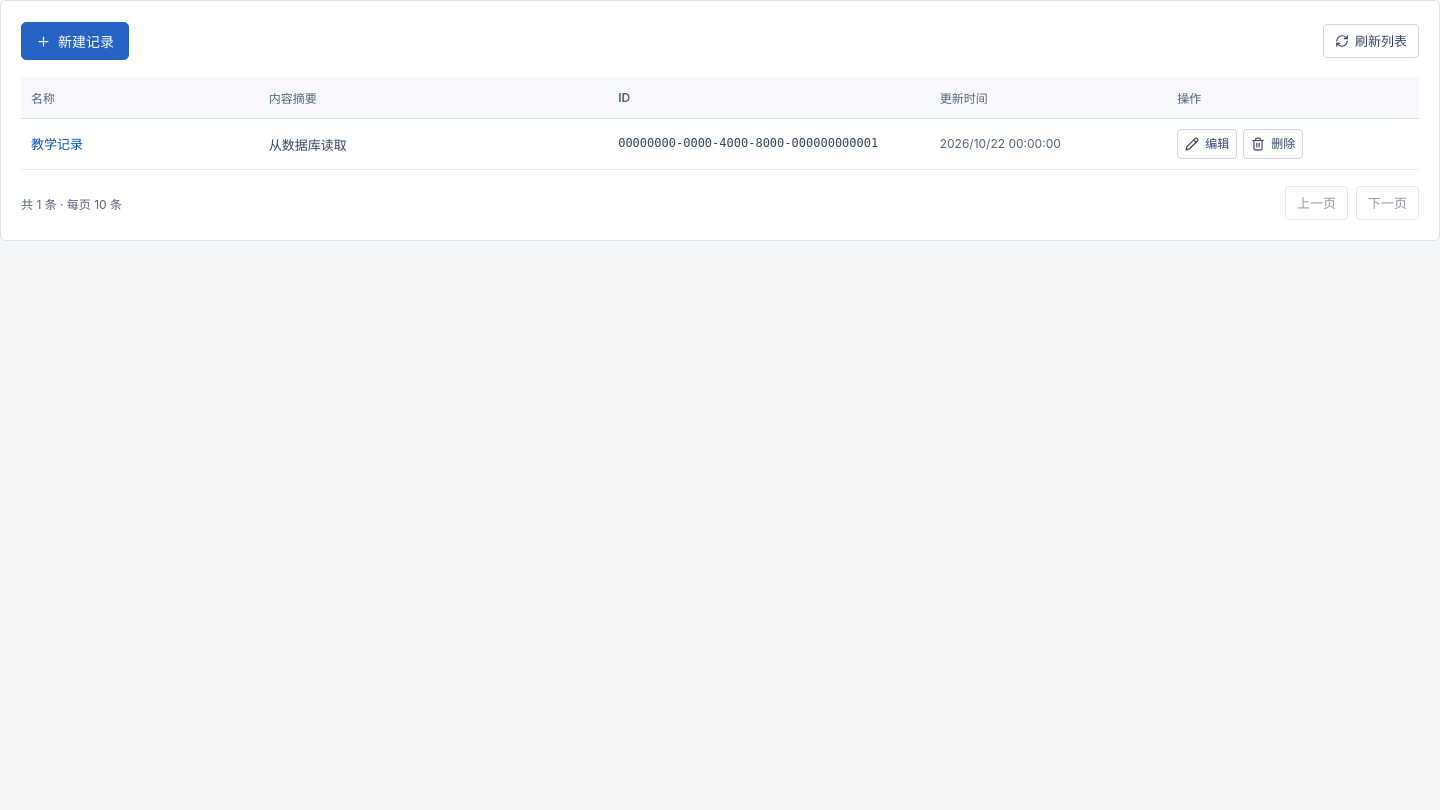
Test case: persisted records and documents › requires deletion confirmation, supports Escape, and sends explicit confirmation only once
The width and height of the screenshot is (1440, 810).
Click the button with aria-label "删除 教学记录": {"x": 1273, "y": 144} [1243,129,1303,159]
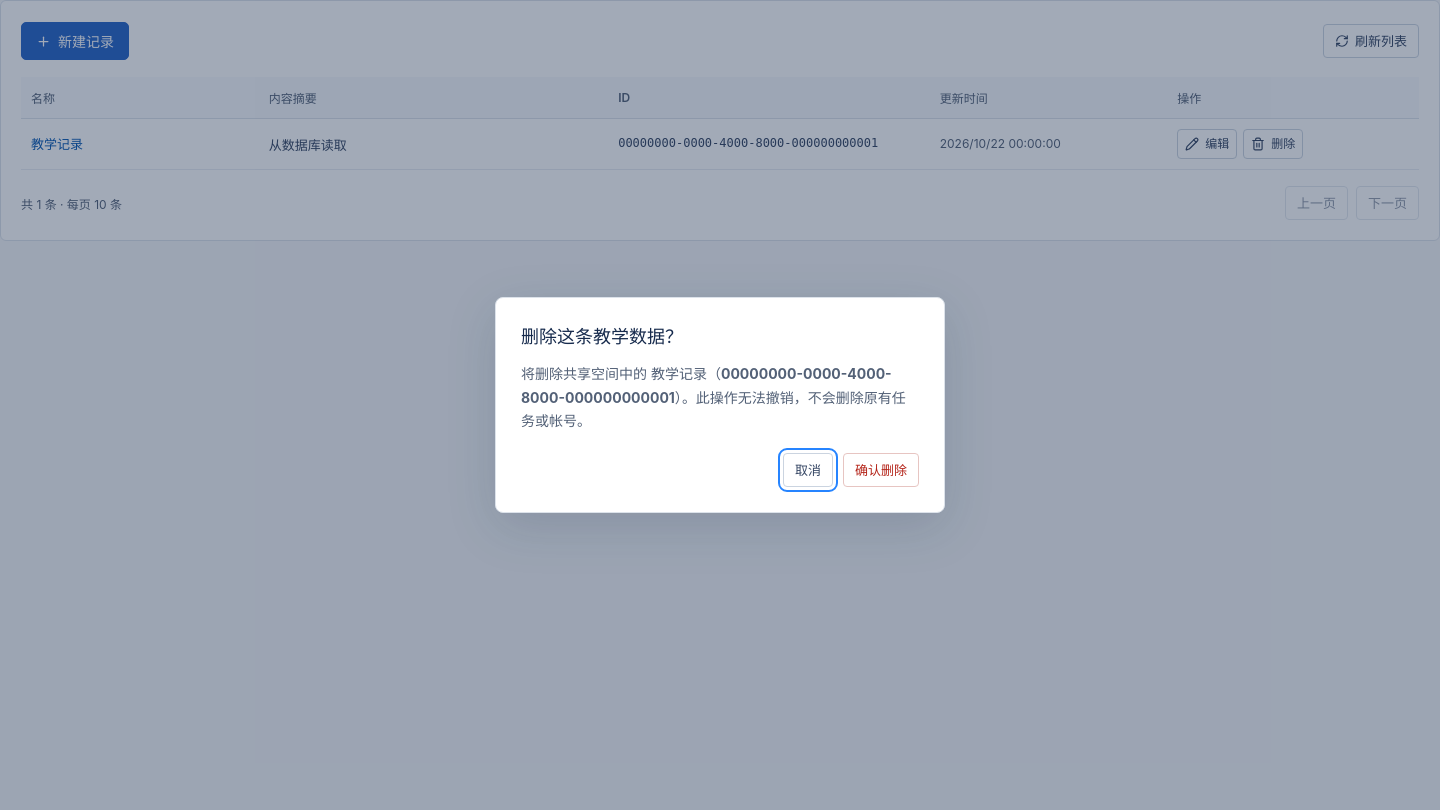
Press Escape in the dialog, box [495,297,945,513]
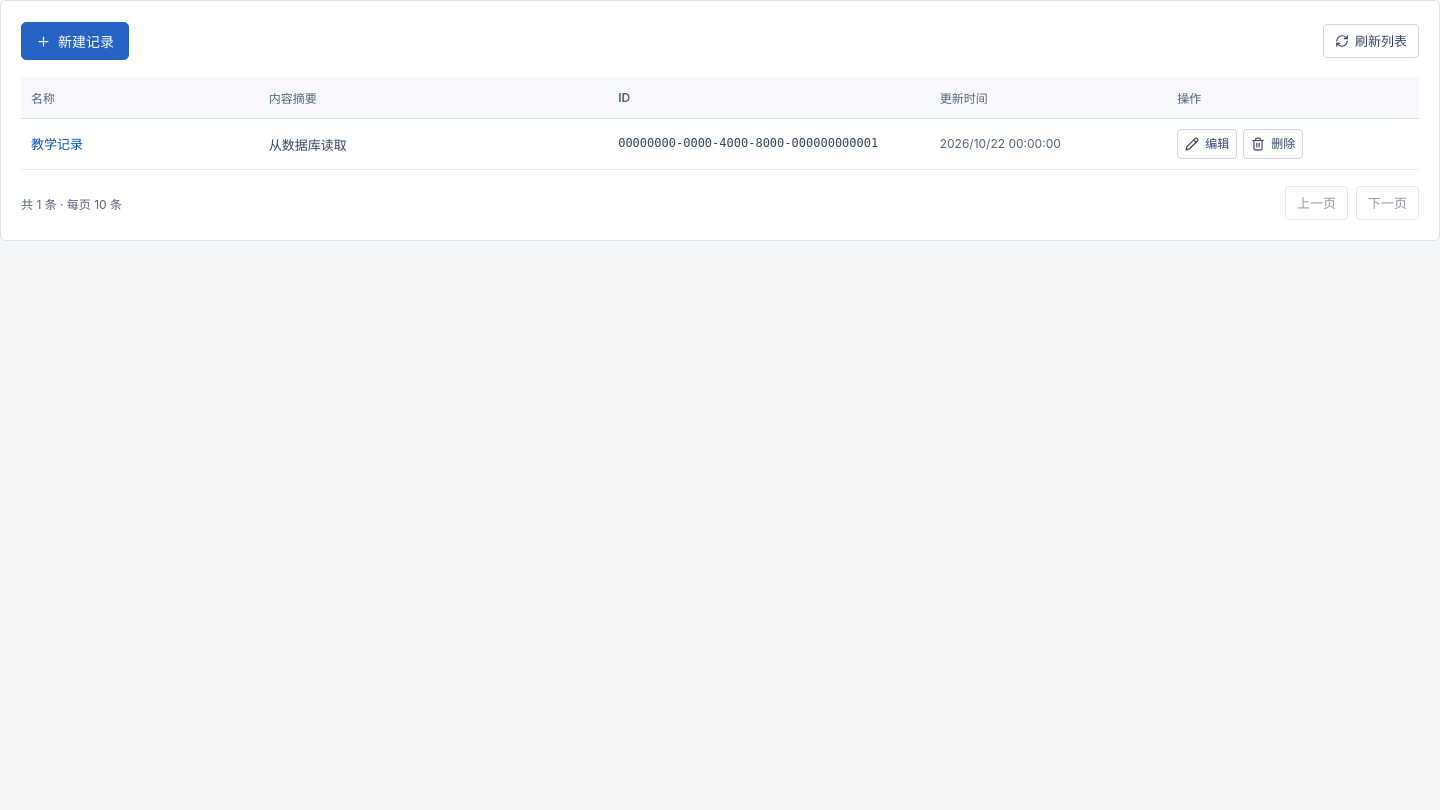
Check: the dialog is gone
Click the button with aria-label "删除 教学记录": {"x": 1273, "y": 144} [1243,129,1303,159]
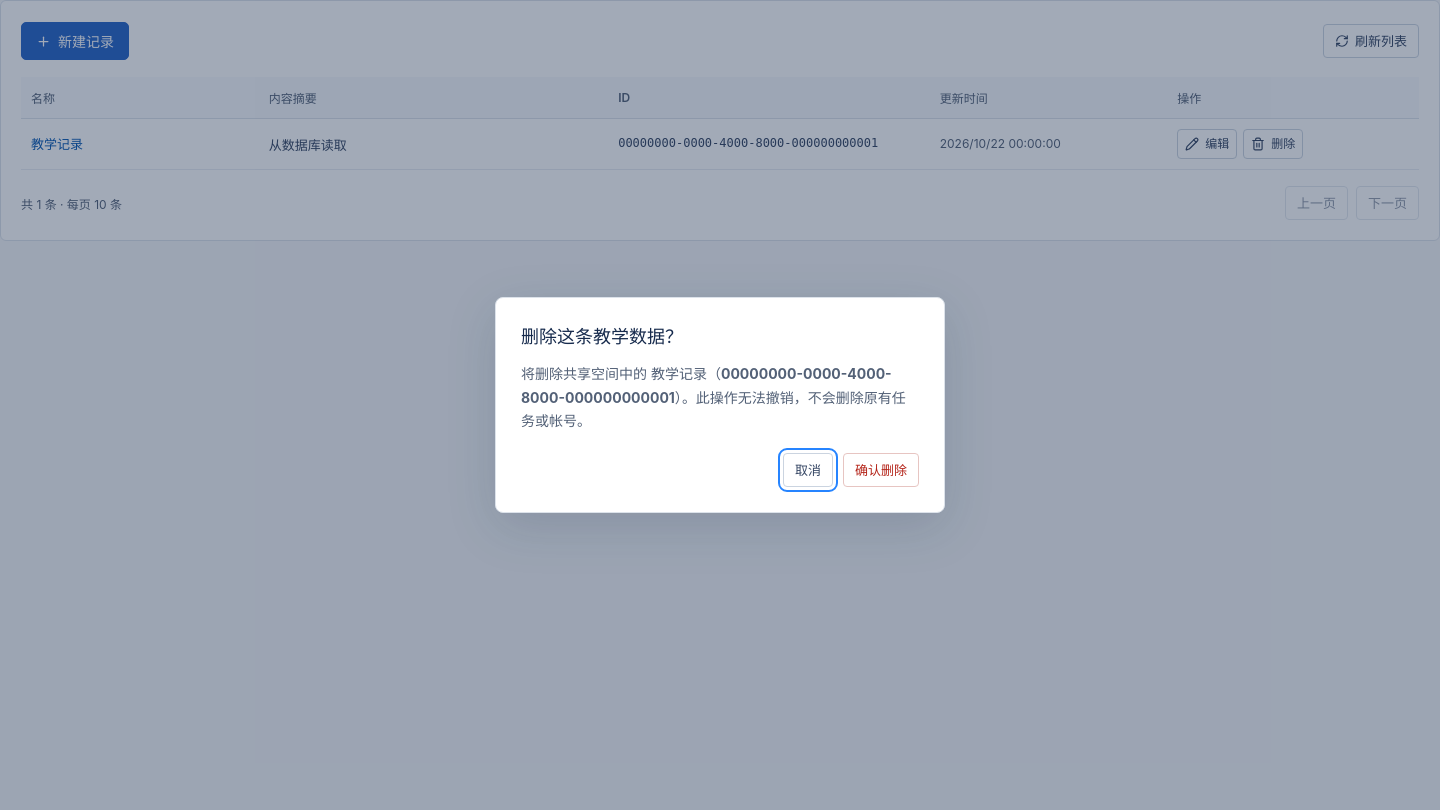
Click the button "确认删除": {"x": 881, "y": 470} [843,453,919,487]
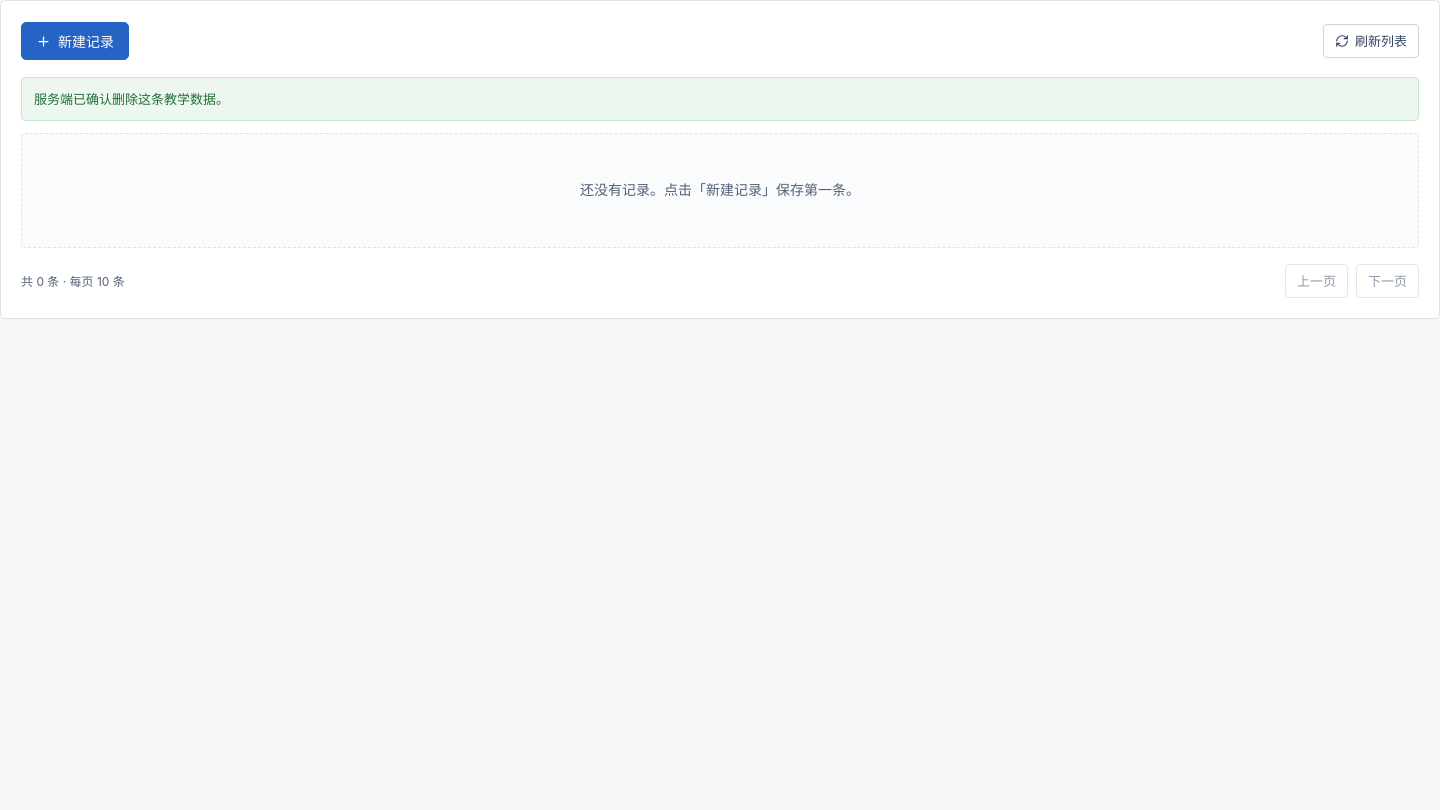
Check: the text "还没有记录。点击「新建记录」保存第一条。" is shown, box [21,133,1419,248]
